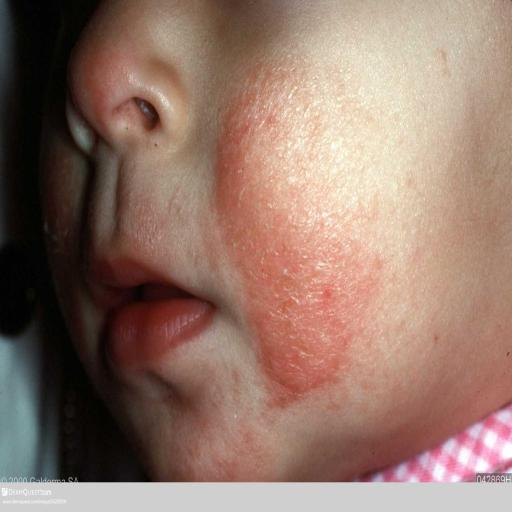Skin_Lesion: (293, 288, 342, 390), (210, 130, 257, 206), (225, 214, 285, 260), (252, 271, 284, 352)
